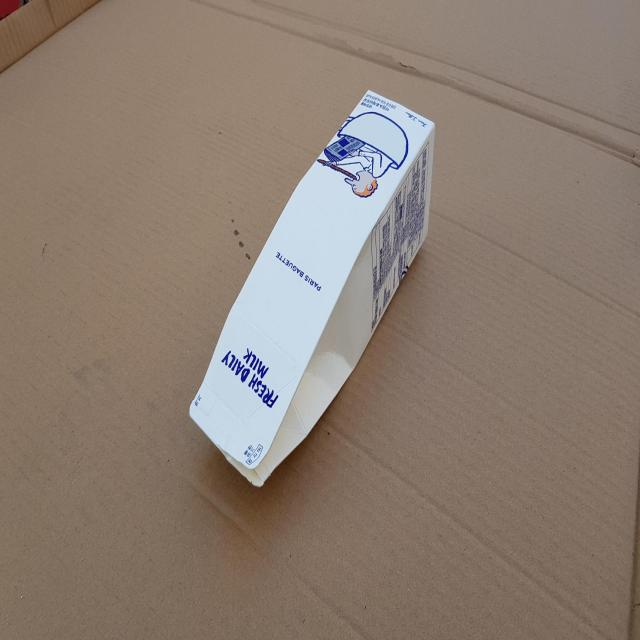paperpack: (190, 89, 435, 486)
